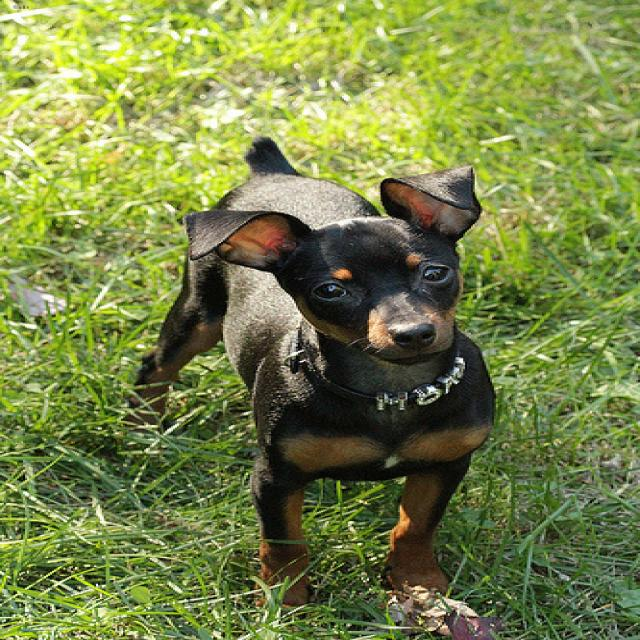dog-miniature_pinscher: (104, 132, 507, 611)
